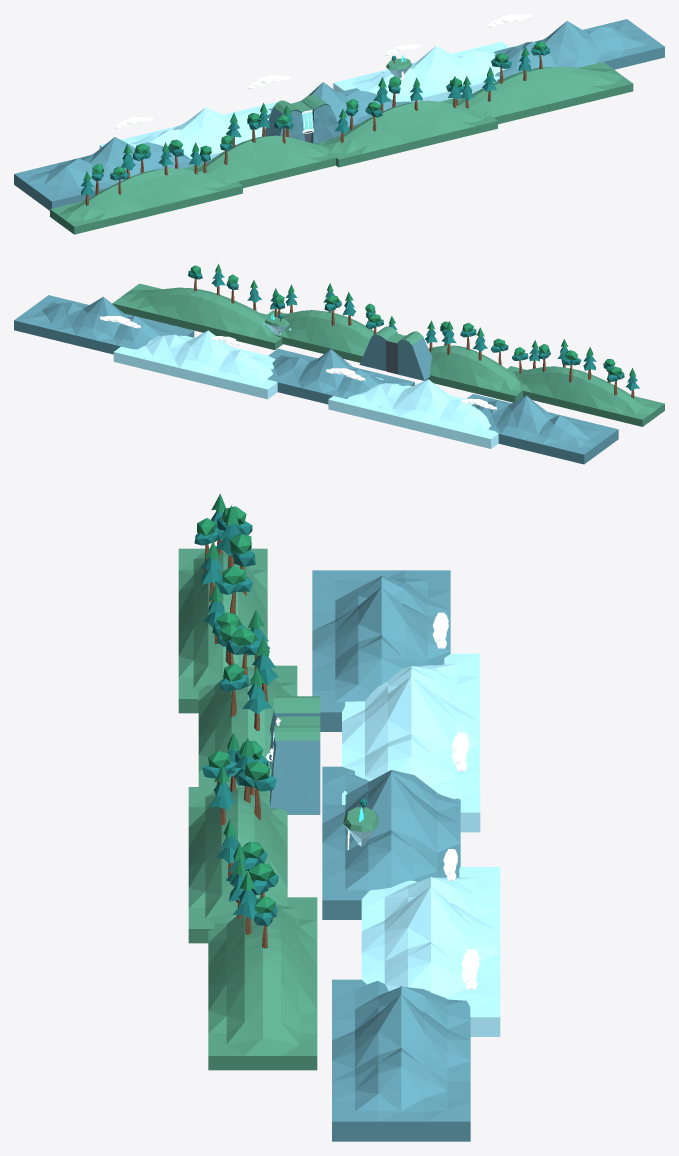
File: L01_Background.fbx
The picture shows the model from 3 angles, top to bottom: view 1: azimuth 30°, elevation 25°; view 2: azimuth 150°, elevation 25°; view 3: azimuth 270°, elevation 25°; orthographic projection. The views are drawn at different scales.
Visible parts, largest first — view 1: BG_Hills_And_ForestBelt, BG_Mountains_Clouds_Island; view 2: BG_Mountains_Clouds_Island, BG_Hills_And_ForestBelt; view 3: BG_Mountains_Clouds_Island, BG_Hills_And_ForestBelt.
Boxes of the visible parts, x1,y1,x2,y2 form: BG_Hills_And_ForestBelt: (50, 41, 633, 234); BG_Mountains_Clouds_Island: (14, 14, 664, 210); BG_Mountains_Clouds_Island: (14, 295, 618, 464); BG_Hills_And_ForestBelt: (112, 264, 664, 426); BG_Mountains_Clouds_Island: (266, 570, 500, 1141); BG_Hills_And_ForestBelt: (178, 493, 317, 1070).
Bounding box in the file's own units: 135 × 14.77 × 32.5.
